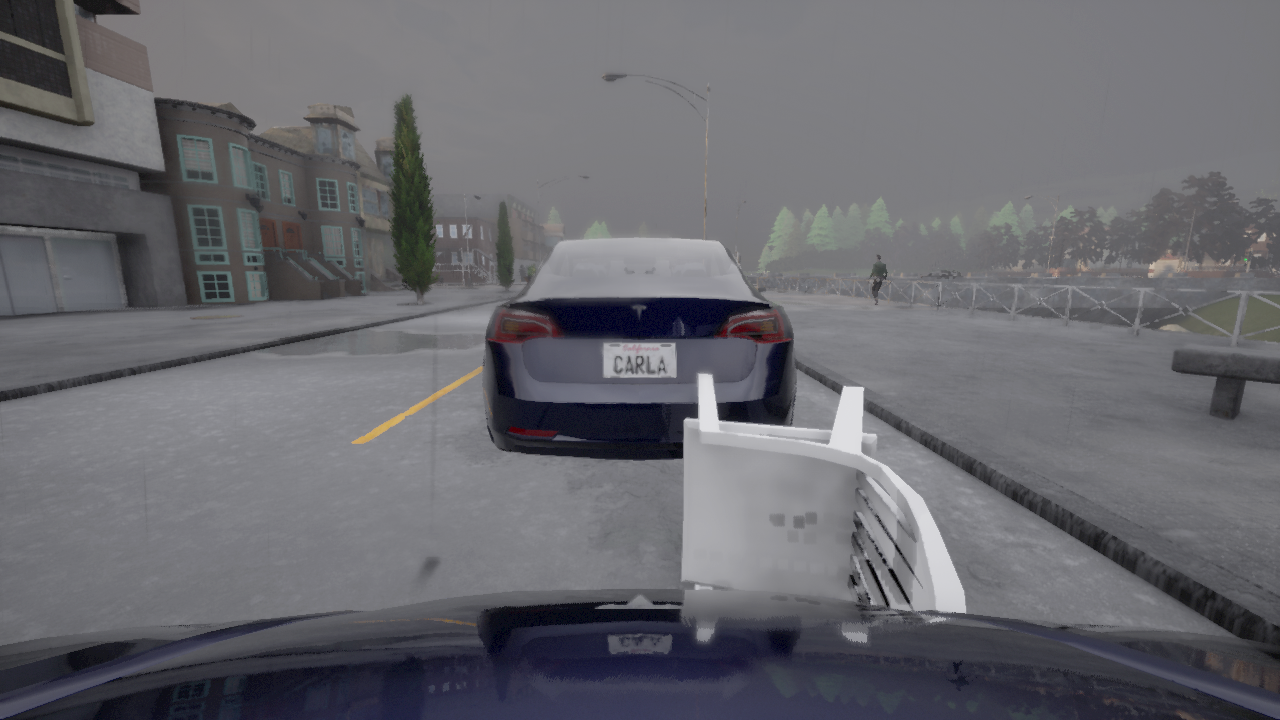cyclist: (0, 588, 1279, 719), (483, 238, 796, 459), (918, 270, 967, 277), (430, 273, 442, 285), (1268, 272, 1279, 277)
pedestrian: (867, 254, 887, 305)
